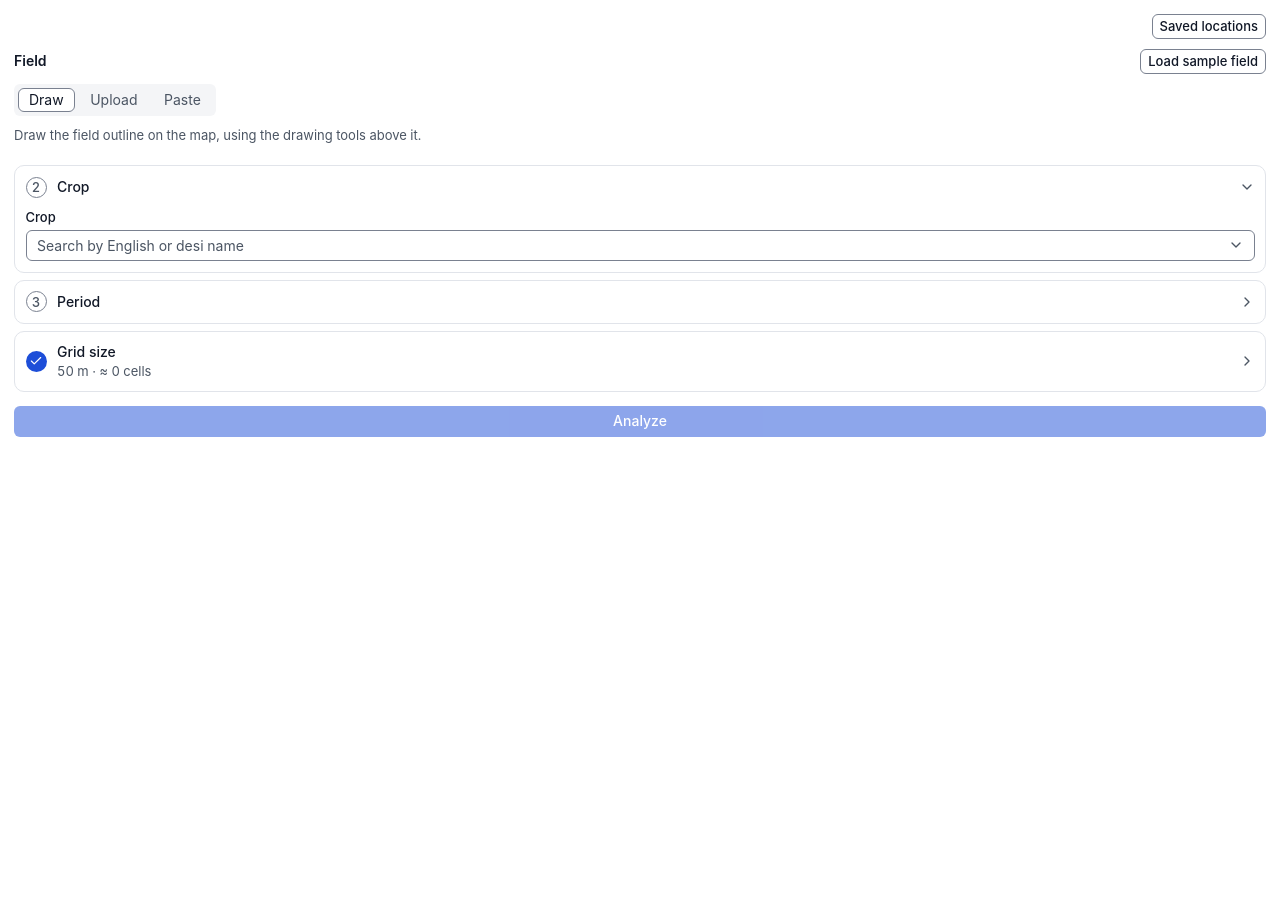
it: SetupSlot › saved locations › cannot save until there is a field
Click the button "Saved locations".
click(1209, 26)  # box top-left (1152, 14), bottom-right (1266, 38)
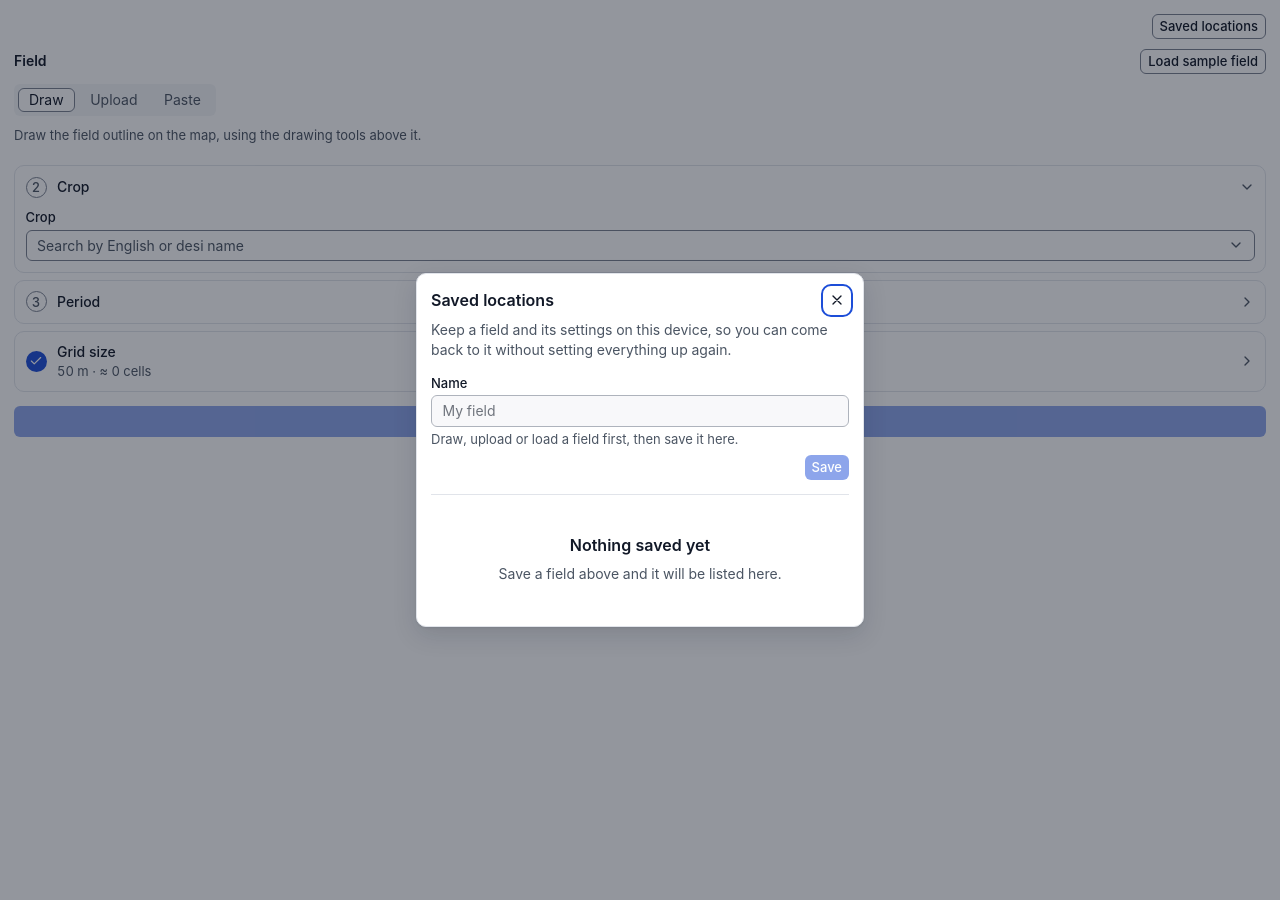
Now the text "Draw, upload or load a field first, then save it here." is shown, box top-left (431, 431), bottom-right (738, 447)
